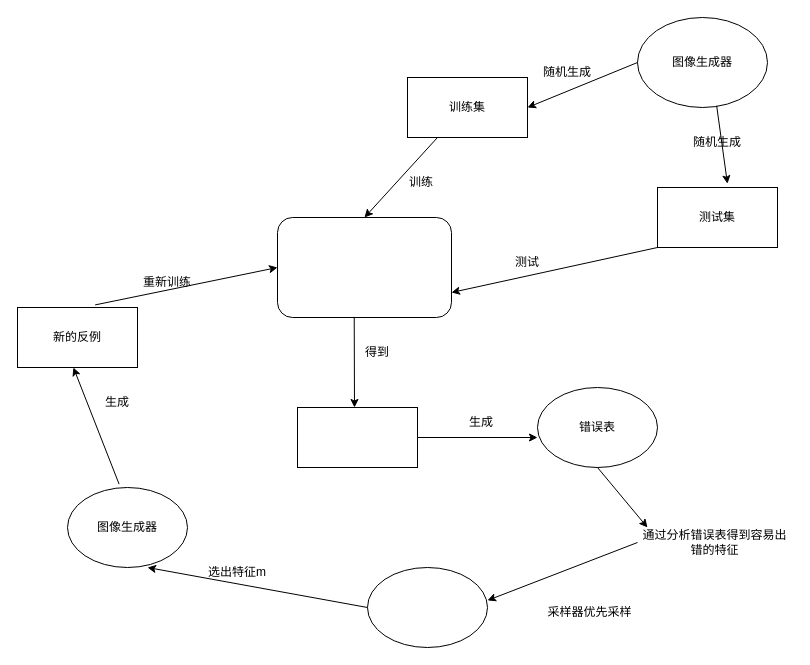
The diagram is 810 pixels wide and 665 high, and some of its shapes have lost their labels. Here are the shapes that lost their labels. From the top down, the centre of each, then its label:
At pixel 364 267: "squezeDet模型".
At pixel 357 437: "反例".
At pixel 427 607: "采样器".
